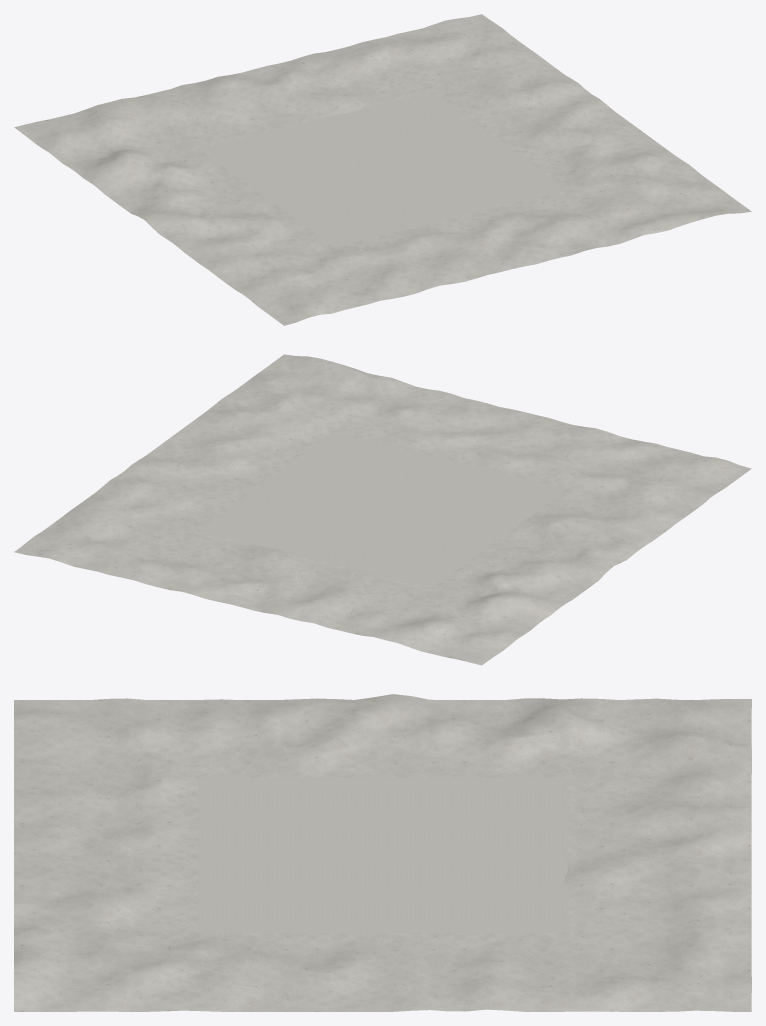
Rendered from desert.dae.
3 renders of one model, top to bottom at view 1: azimuth 30°, elevation 25°; view 2: azimuth 150°, elevation 25°; view 3: azimuth 270°, elevation 25°, orthographic. The views are drawn at different scales.
Visible parts, largest first — view 1: Plane; view 2: Plane; view 3: Plane.
Boxes of the visible parts, x1,y1,x2,y2 form: Plane: (14, 14, 751, 325); Plane: (14, 354, 751, 665); Plane: (14, 694, 751, 1011).
Bounding box in the file's own units: 401 × 400 × 6.99.
Materials: 1 (1 with a texture image).
